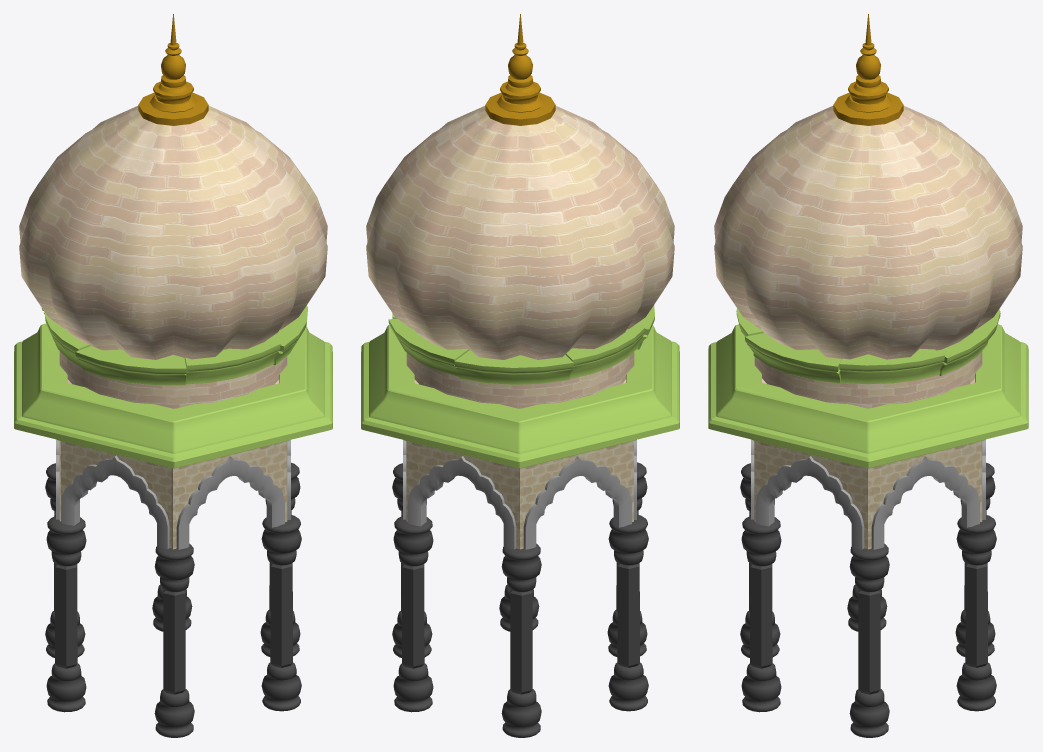
File: SM_pavilion_dome_01.fbx
3 renders of one model, left to right at view 1: azimuth 30°, elevation 25°; view 2: azimuth 150°, elevation 25°; view 3: azimuth 270°, elevation 25°, orthographic.
Parts seen in each view (by area): view 1: Cylinder424409; view 2: Cylinder424409; view 3: Cylinder424409.
Boxes of the visible parts, x1,y1,x2,y2 form: Cylinder424409: (14,14,332,737); Cylinder424409: (361,14,679,737); Cylinder424409: (708,14,1028,737).
Bounding box in the file's own units: 263 × 527 × 230.
